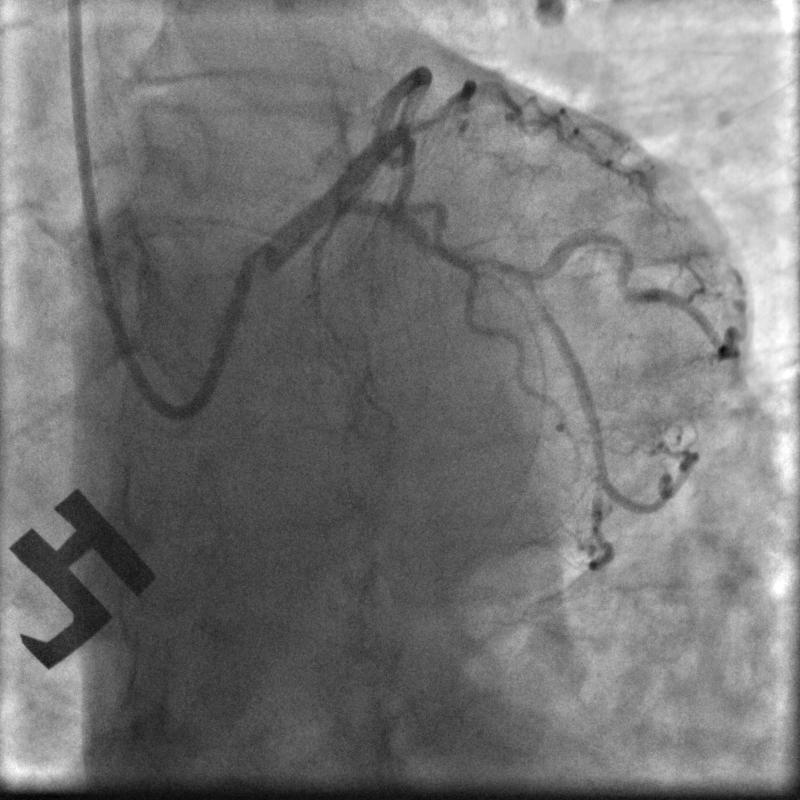Stenosis: (472, 247, 544, 305)
